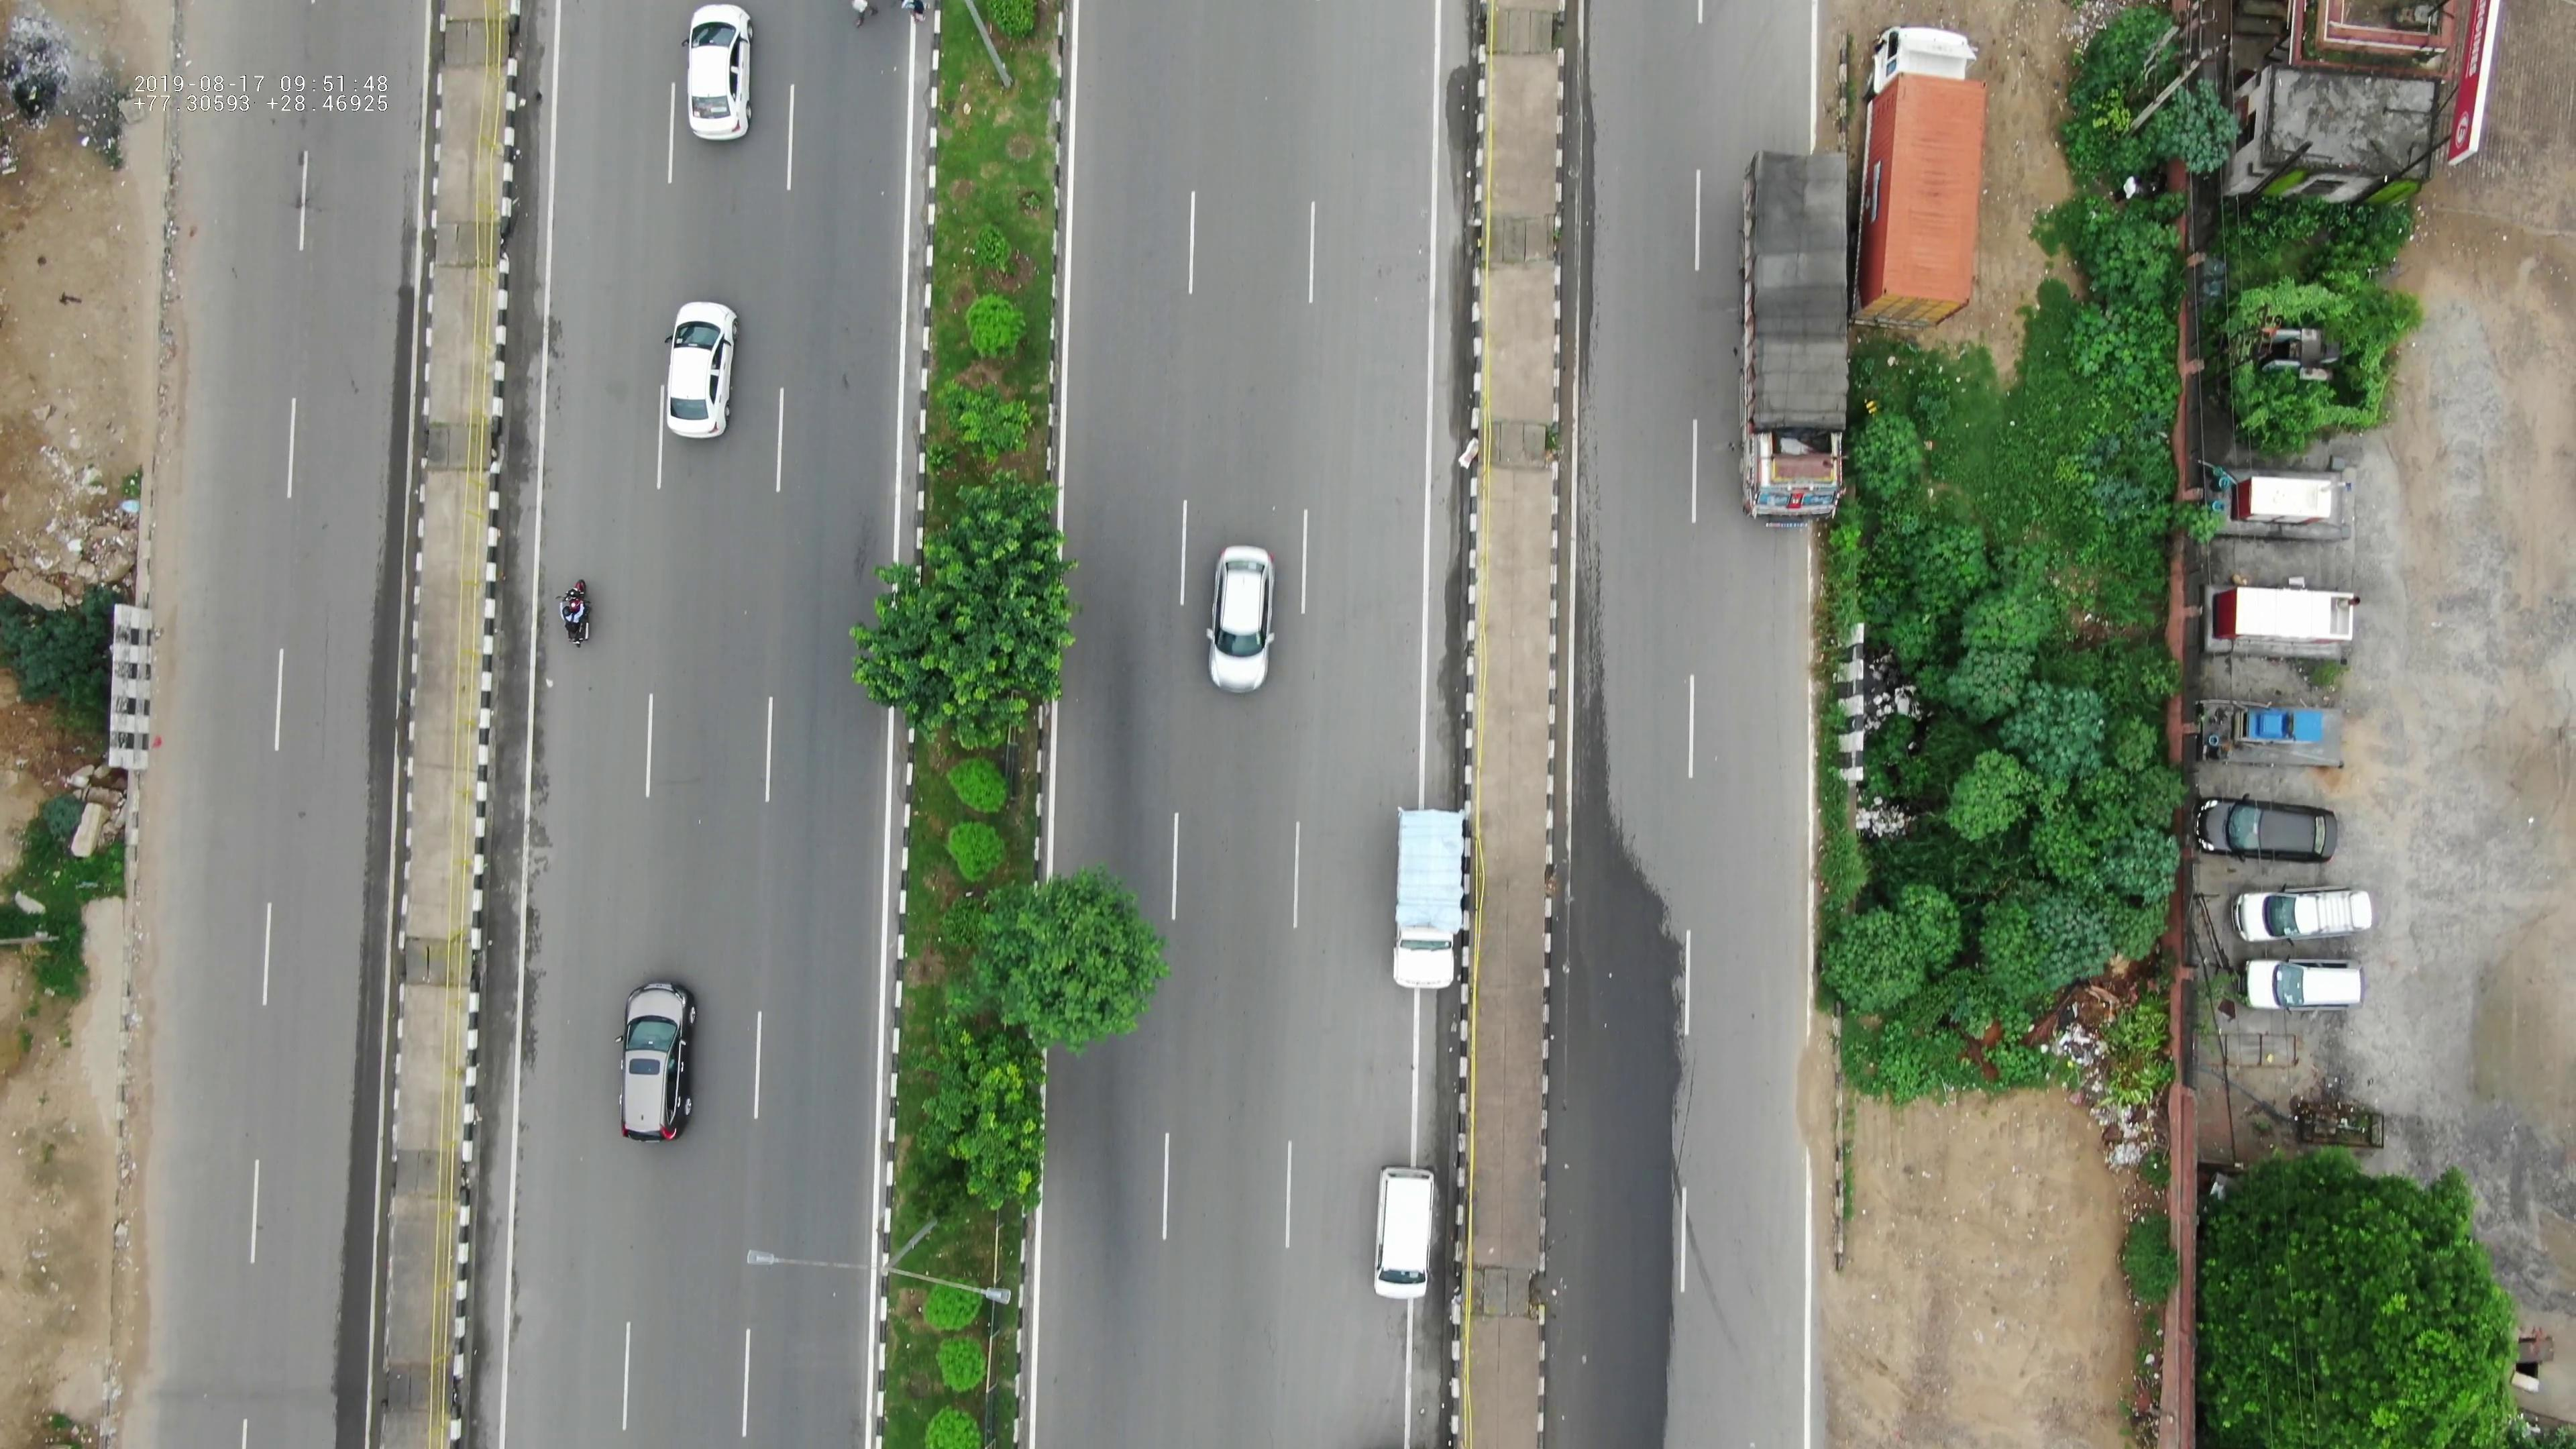Muddy_road: (111, 901, 170, 1355), (119, 150, 191, 497)
